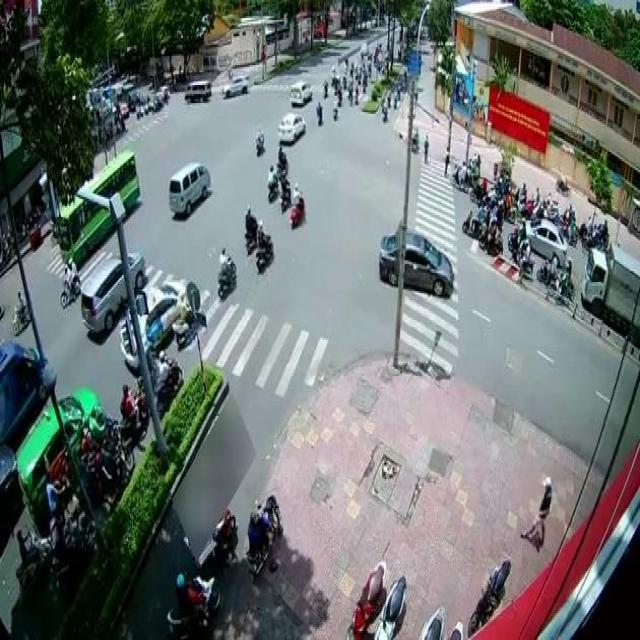bus: (54, 148, 139, 257)
car: (16, 385, 98, 514), (120, 280, 186, 369), (377, 226, 453, 296), (79, 253, 142, 331), (525, 217, 568, 266), (276, 112, 305, 143)
motorcycle: (207, 414, 242, 486), (117, 378, 149, 446), (201, 494, 235, 555), (153, 347, 182, 407), (58, 253, 81, 307), (217, 244, 236, 300), (254, 215, 273, 271), (11, 290, 32, 334), (287, 181, 304, 228), (244, 202, 259, 255), (266, 162, 278, 202)
truck: (578, 237, 640, 331), (168, 159, 209, 213)
